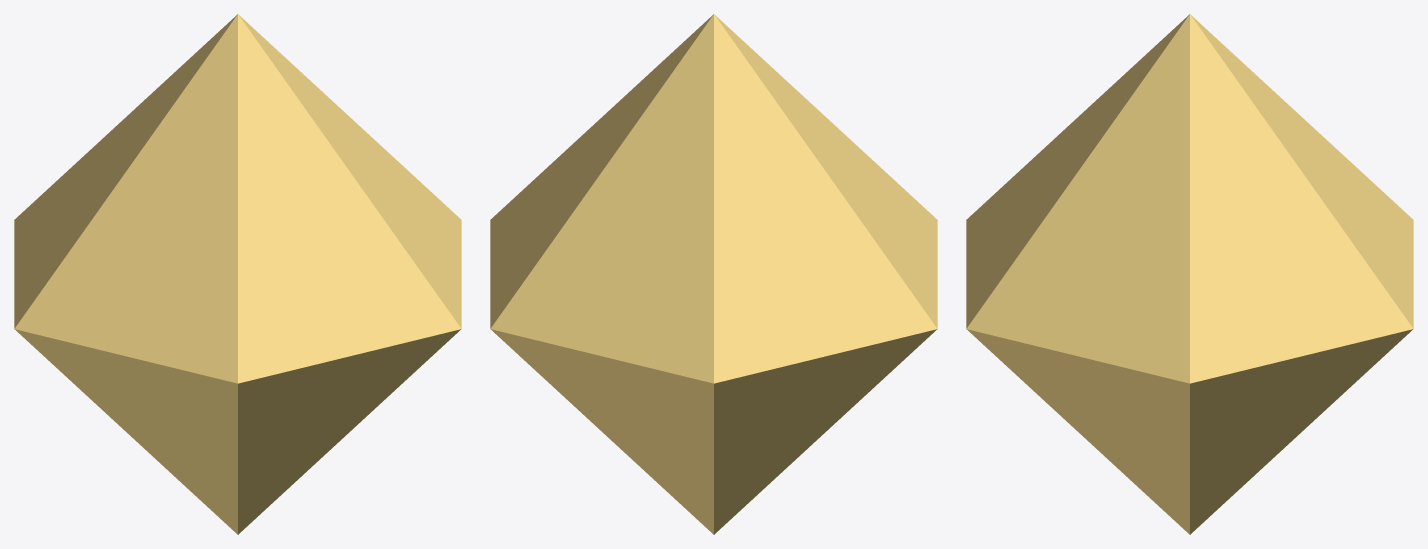
The model's file is prop_jewel.glb.
3 views of the same model, side by side, from view 1: azimuth 30°, elevation 25°; view 2: azimuth 150°, elevation 25°; view 3: azimuth 270°, elevation 25° (orthographic).
Parts seen in each view (by area): view 1: jewel; view 2: jewel; view 3: jewel.
Part boxes in pixels (x1,y1,x2,y2): jewel: (14, 14, 461, 534); jewel: (490, 14, 937, 534); jewel: (966, 14, 1413, 534).
Bounding box in the file's own units: 0.3329 × 0.3705 × 0.2883.
